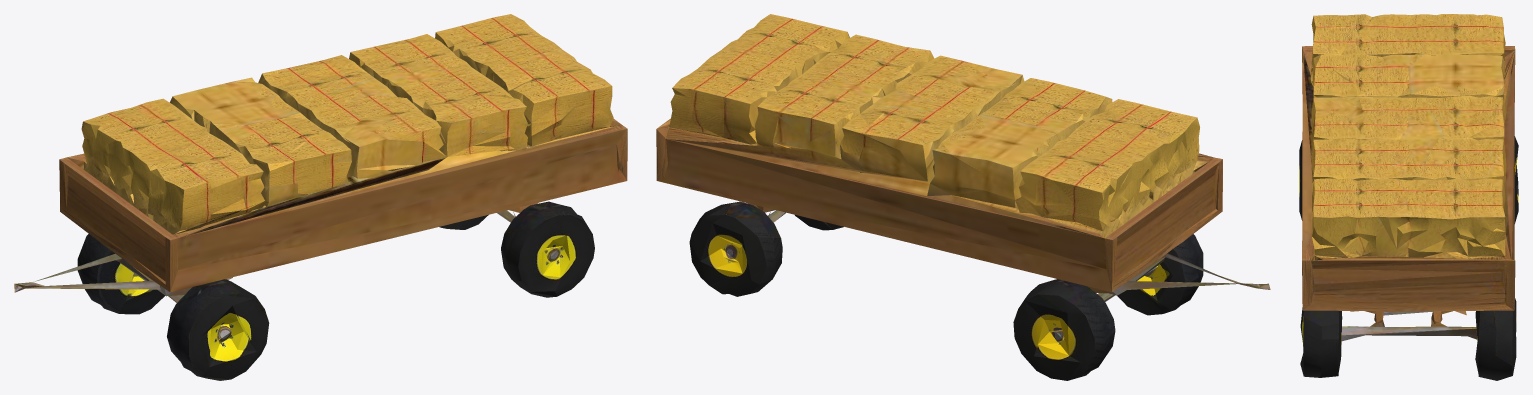
The model's file is prop-trailer.glb.
3 renders of one model, left to right at view 1: azimuth 30°, elevation 25°; view 2: azimuth 150°, elevation 25°; view 3: azimuth 270°, elevation 25°, orthographic. The views are drawn at different scales.
Bounding box in the file's own units: 1.9 × 0.6544 × 0.6717.
1 material, 1 textured.
